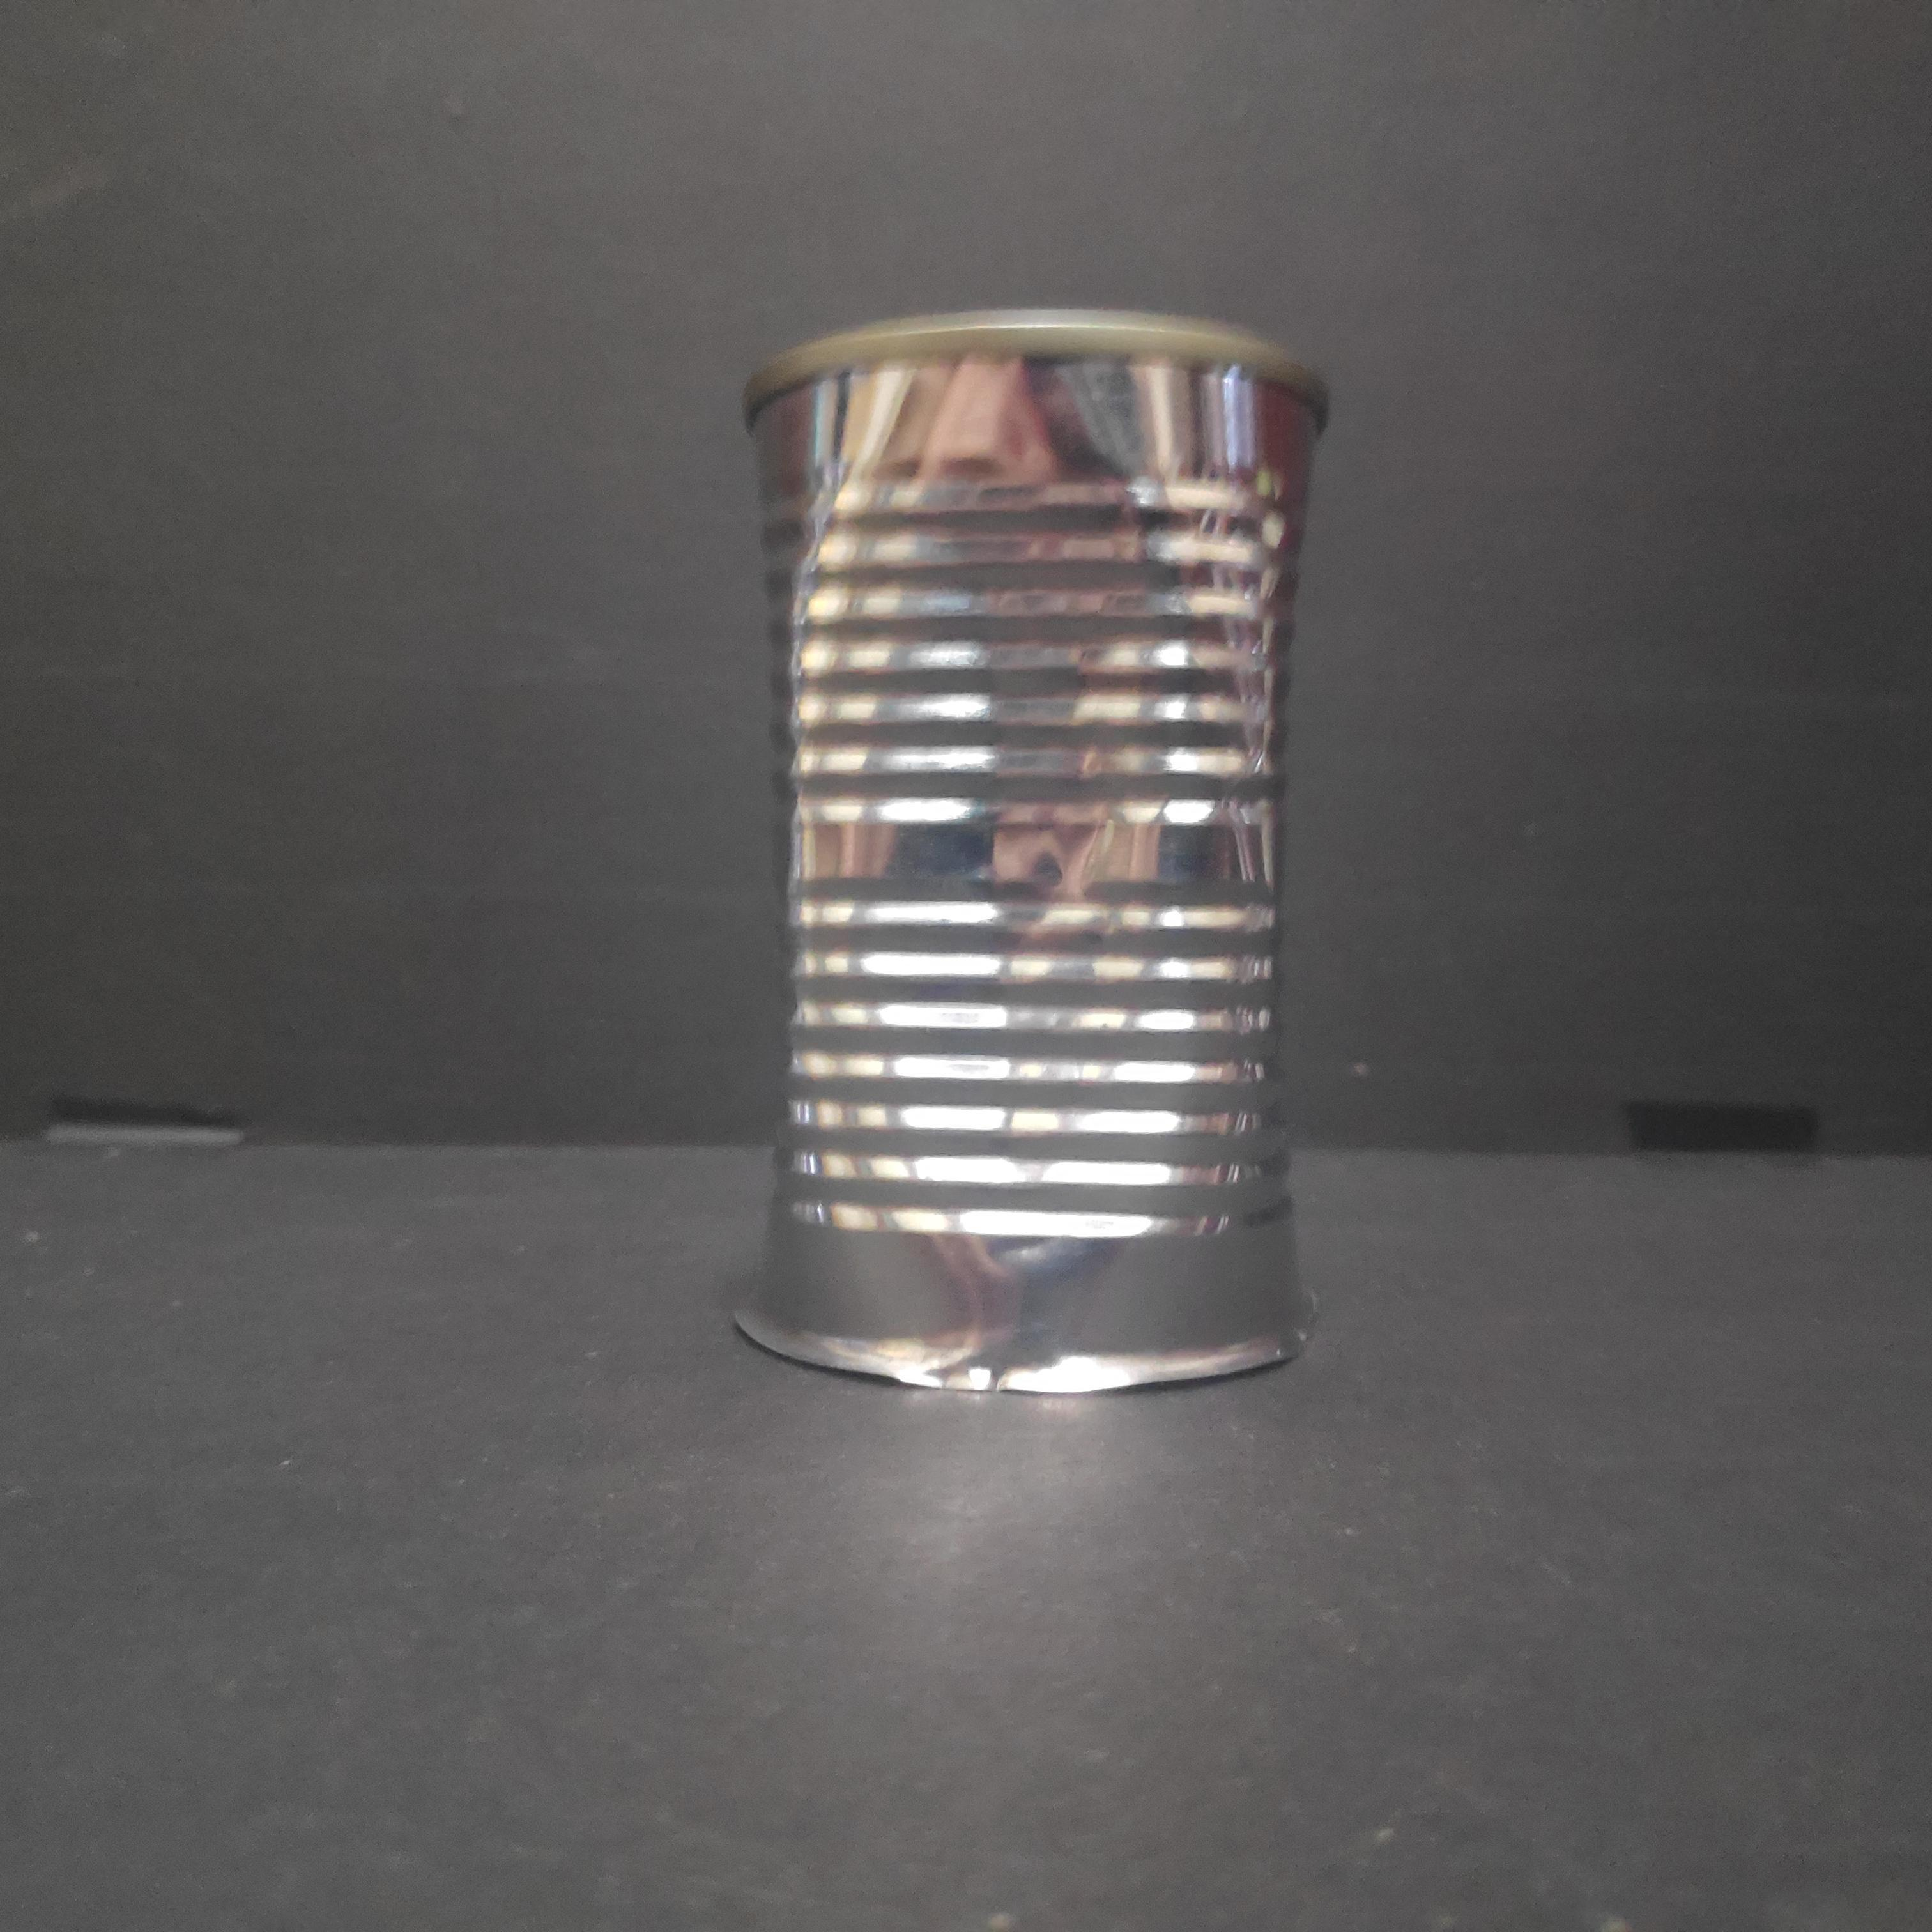Dented: (706, 294, 1352, 1421)
